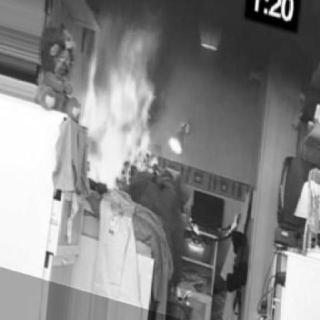Fire: (73, 19, 157, 193), (225, 210, 239, 238), (185, 211, 199, 233)
other: (170, 134, 182, 156)
